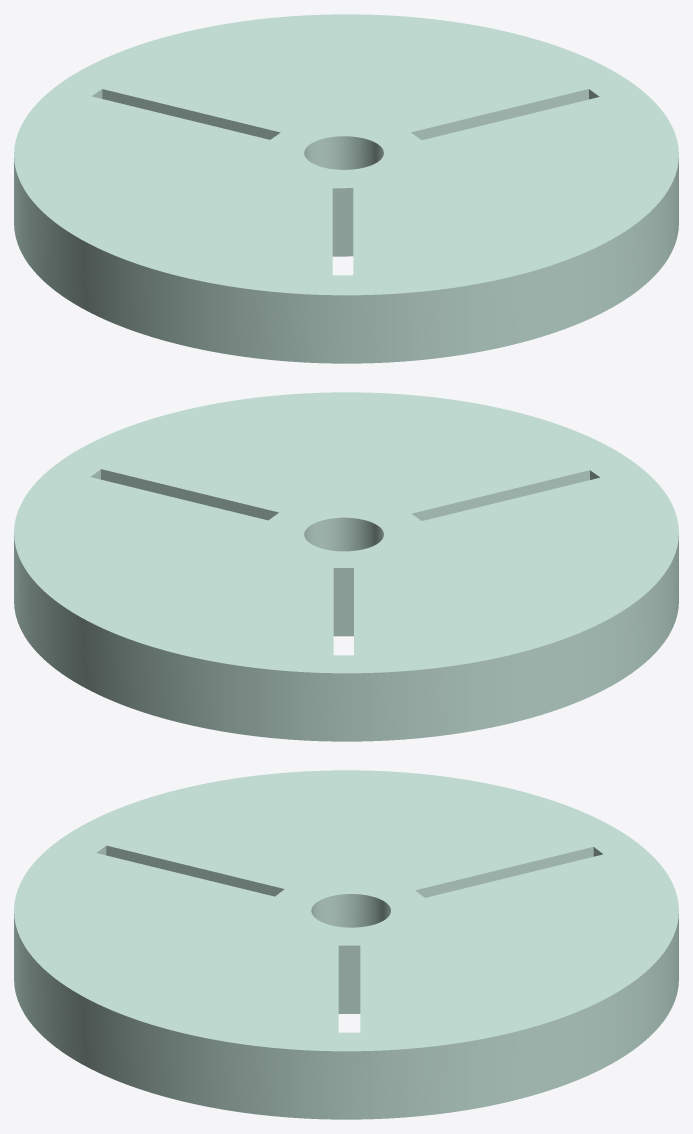
The picture shows the model from 3 angles, top to bottom: view 1: azimuth 30°, elevation 25°; view 2: azimuth 150°, elevation 25°; view 3: azimuth 270°, elevation 25°; orthographic projection.
Visible parts, largest first — view 1: Renderer Node; view 2: Renderer Node; view 3: Renderer Node.
Boxes of the visible parts, <box> form: Renderer Node: <box>14,14,678,363</box>; Renderer Node: <box>14,392,678,741</box>; Renderer Node: <box>14,770,678,1119</box>.
Bounding box in the file's own units: 1.52 × 0.1719 × 1.52.
